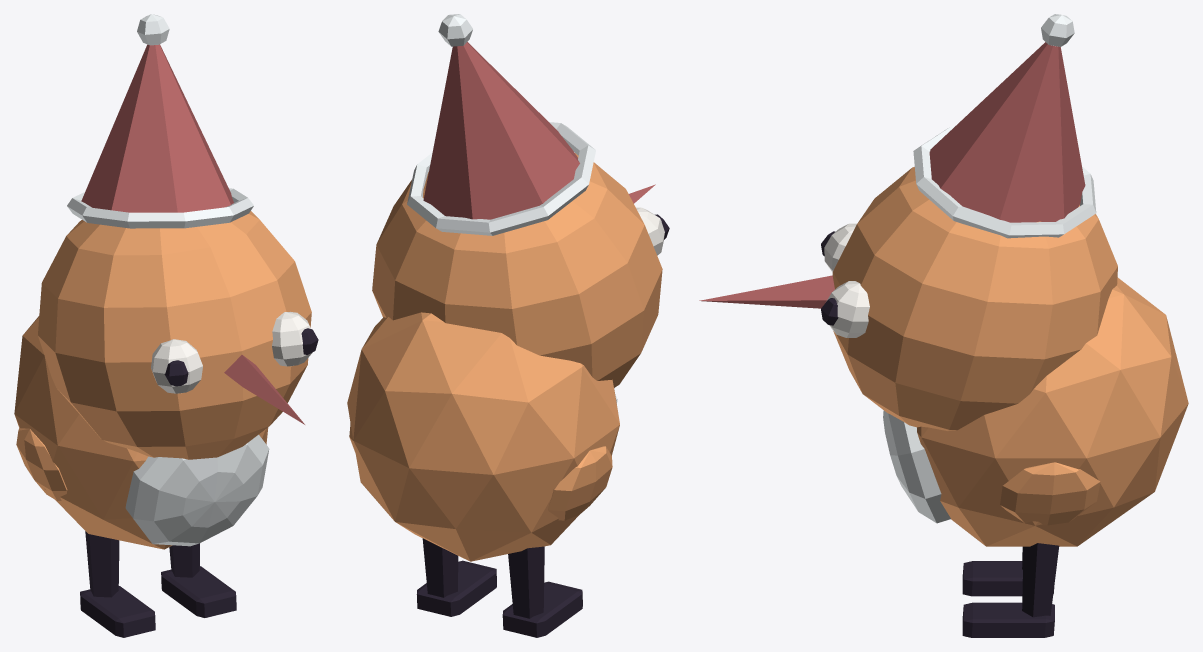
Rendered from bird-cave-1.glb.
The picture shows the model from 3 angles, left to right: view 1: azimuth 30°, elevation 25°; view 2: azimuth 150°, elevation 25°; view 3: azimuth 270°, elevation 25°; orthographic projection. The views are drawn at different scales.
Parts seen in each view (by area): view 1: bird-cave-1; view 2: bird-cave-1; view 3: bird-cave-1.
Part boxes in pixels (left/top/right/bottom): bird-cave-1: left=14, top=14, right=318, bottom=637; bird-cave-1: left=347, top=14, right=669, bottom=637; bird-cave-1: left=699, top=14, right=1188, bottom=637.
Size of the model in its own units: 0.3928 by 0.9 by 0.6632.
